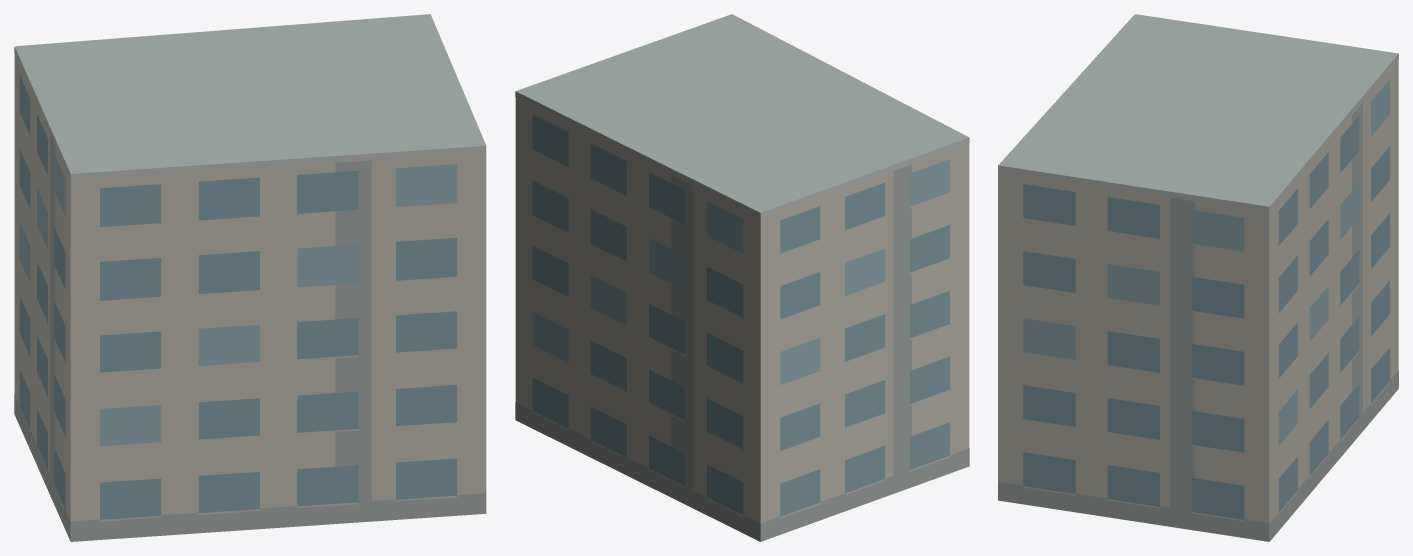
The model's file is survey-upis-32891082.glb.
3 views of the same model, side by side, from view 1: azimuth 30°, elevation 25°; view 2: azimuth 150°, elevation 25°; view 3: azimuth 270°, elevation 25° (orthographic). The views are drawn at different scales.
Visible parts, largest first — view 1: survey-upis-32891082.tmp; view 2: survey-upis-32891082.tmp; view 3: survey-upis-32891082.tmp.
Boxes of the visible parts, <box> form: survey-upis-32891082.tmp: <box>14,14,486,541</box>; survey-upis-32891082.tmp: <box>515,14,969,541</box>; survey-upis-32891082.tmp: <box>998,14,1398,541</box>.
Size of the model in its own units: 16.42 by 13.3 by 14.42.
